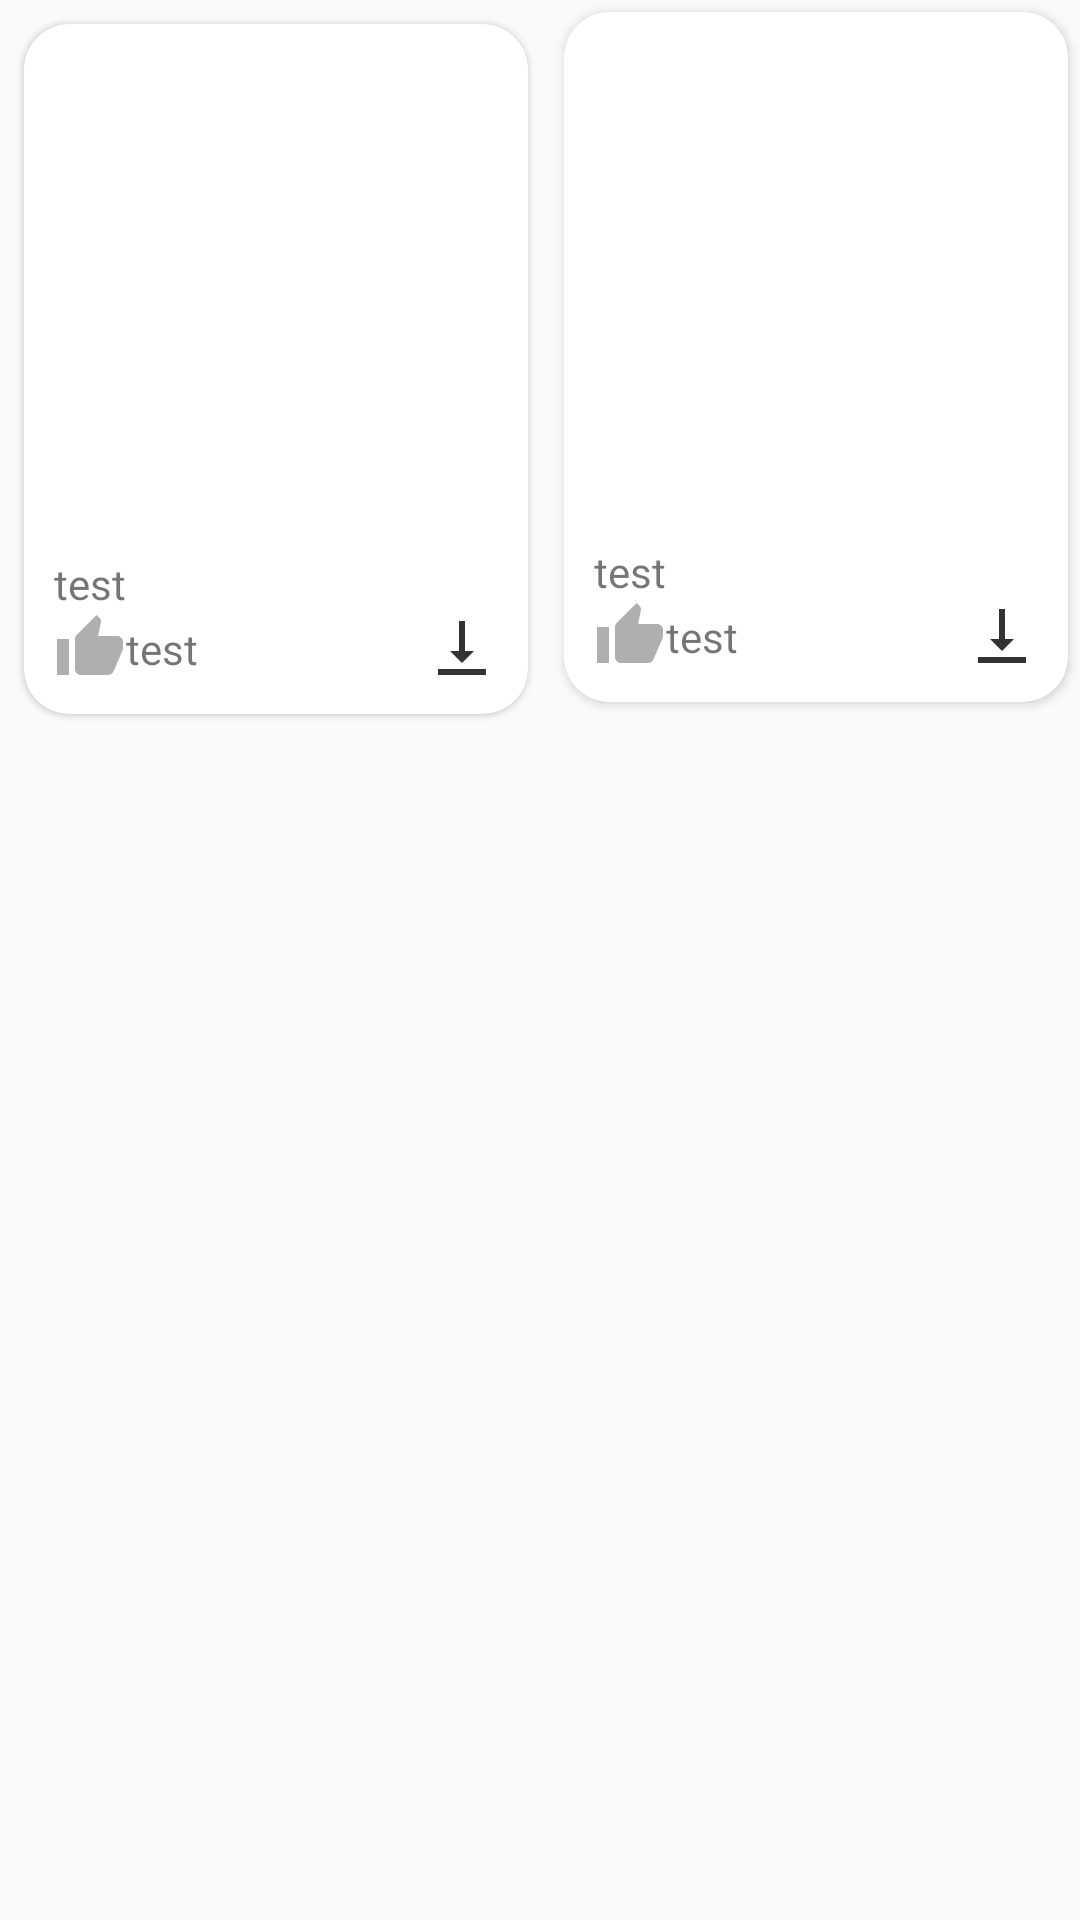

Named icons in this screenshot (1080*1920) and their bounding boxes, (x1, y1, x2, y2):
thumb up: (597, 603, 663, 663), (57, 615, 123, 675)
vertical align bottom: (978, 609, 1026, 663), (438, 621, 486, 675)
